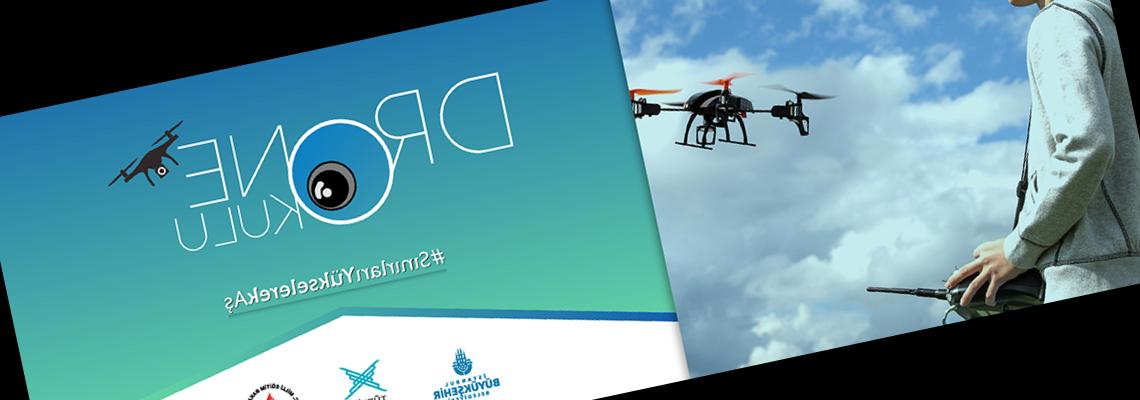drone: (624, 30, 842, 180), (94, 117, 202, 202)
